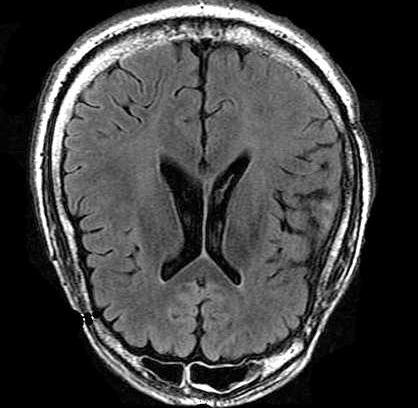Normal_Brain: (1, 1, 418, 408)
